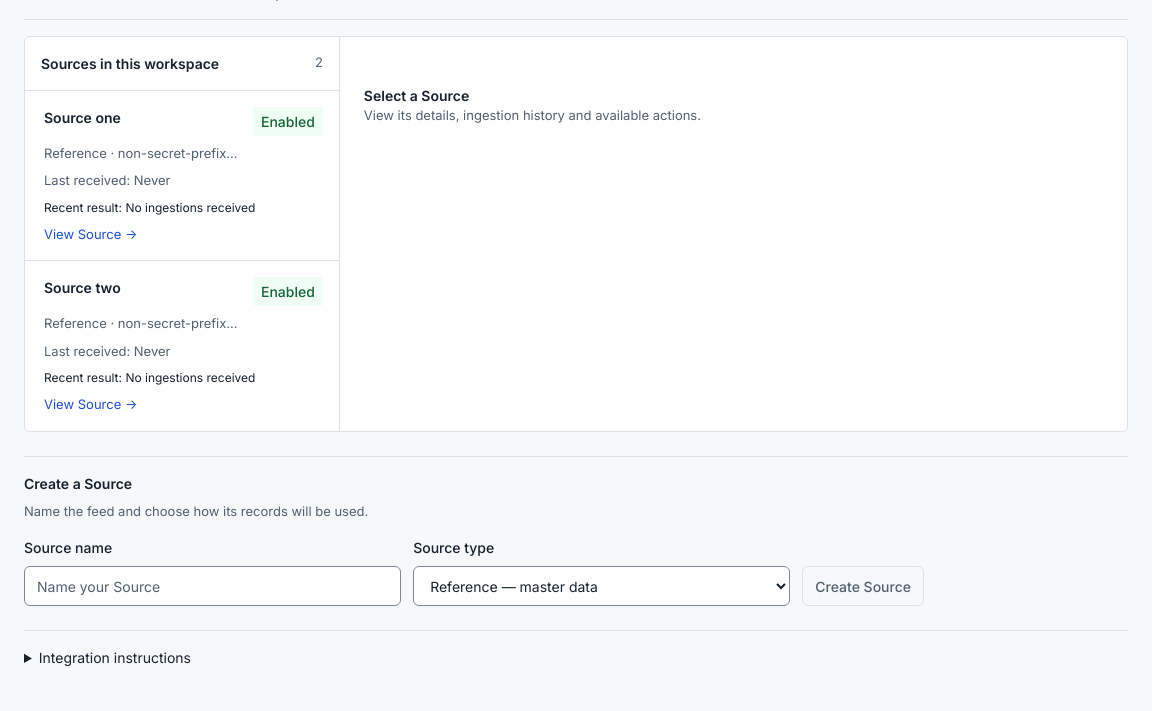
Scenario: Source credential acknowledgement recovery › confirmed HTTP 401 creation rejection preserves input and permits correction
This screenshot has width=1152, height=711.
(page scrolled)
Expected: the button with aria-label "View Source Source one" is shown, [25,90,339,260]
Type "New feed" into the field labelled "Source name" at [213, 586], box [24,566,401,606]
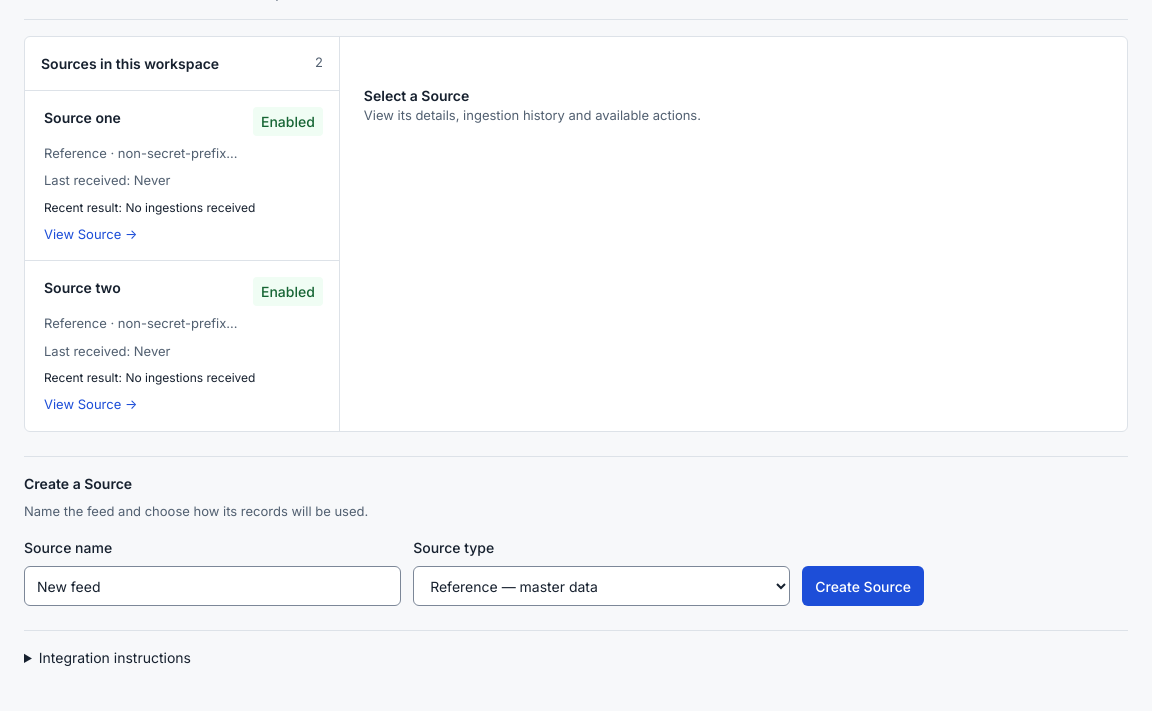
Submit the form labelled "Source name", box [24,537,924,606]
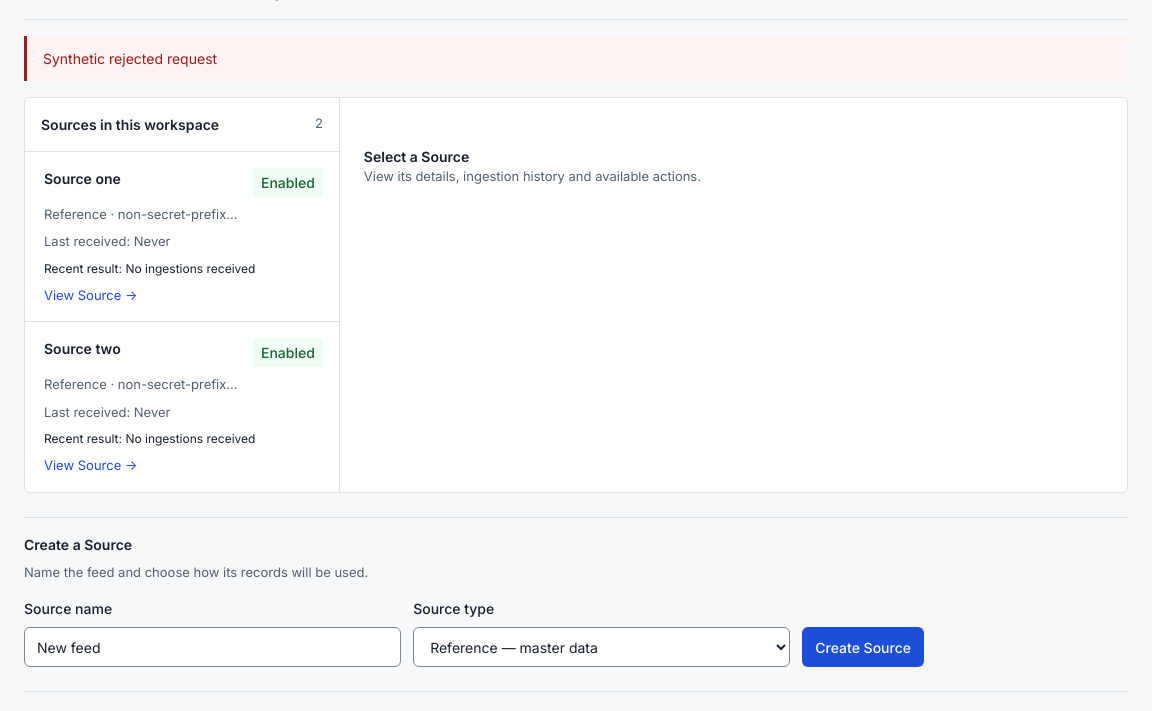
Expected: the text "Synthetic rejected request" is shown, [24,36,1128,80]
Replace the text in the field labelled "Source name" with "Corrected feed" at [213, 647], box [24,627,401,667]
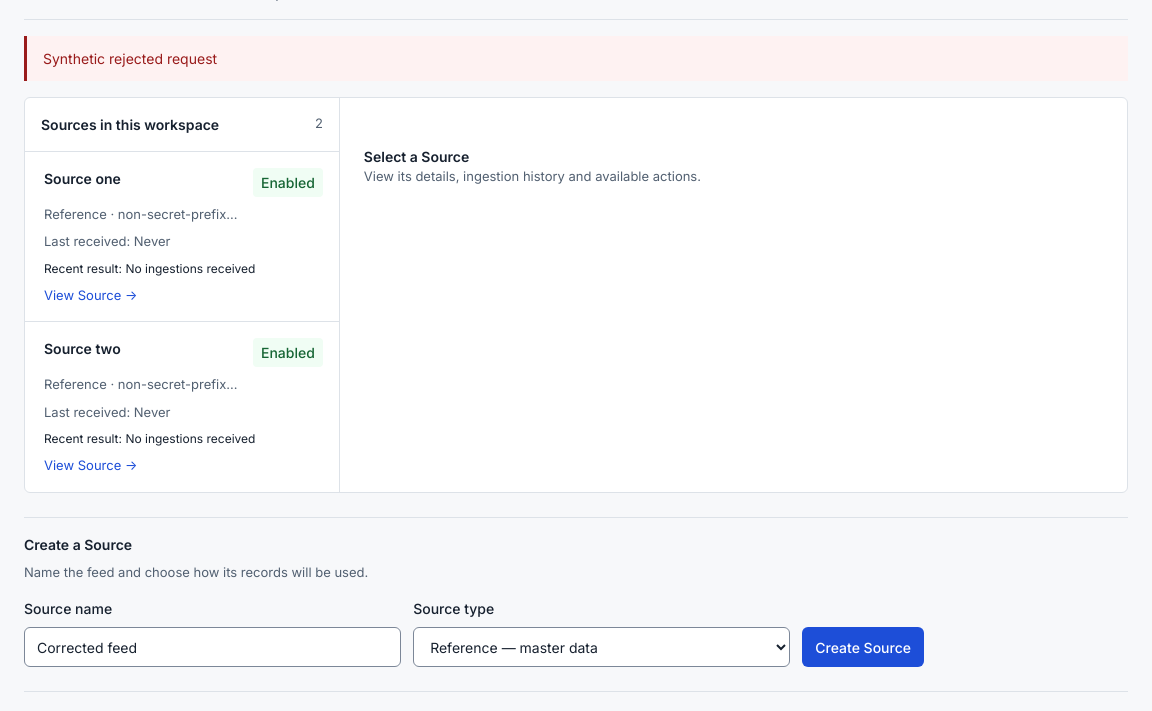
Submit the form labelled "Source name", box [24,598,924,667]
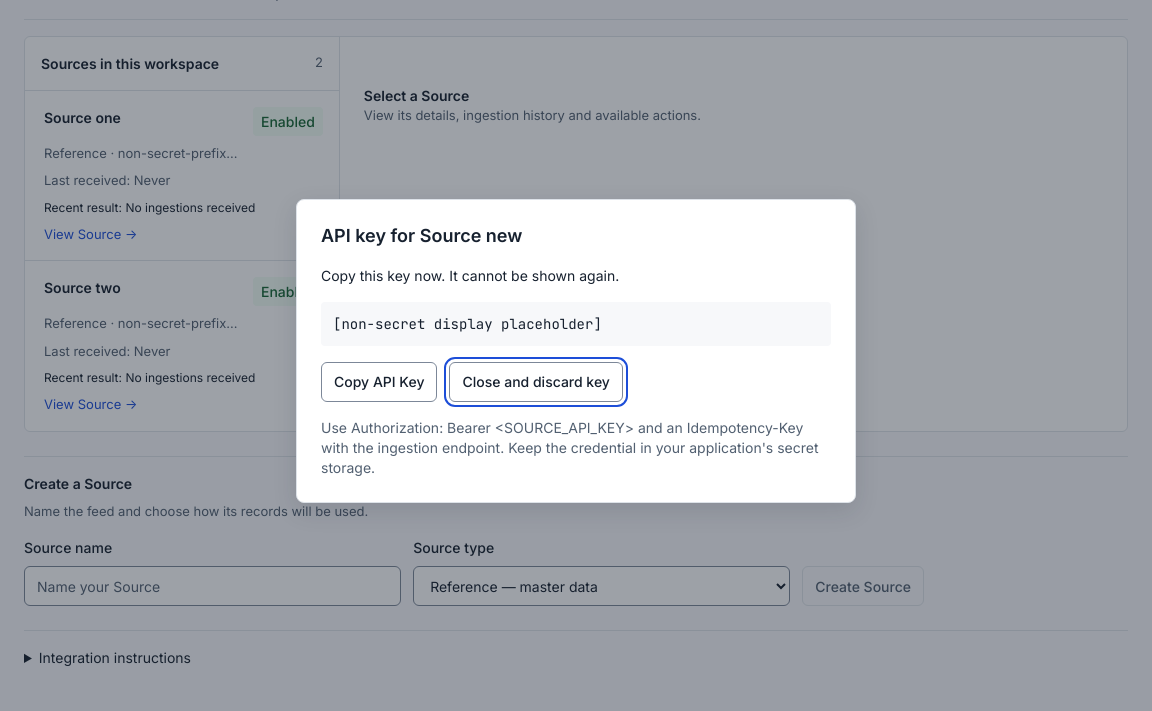
Expected: the dialog "API key for Source new" is shown, [296,199,856,503]
